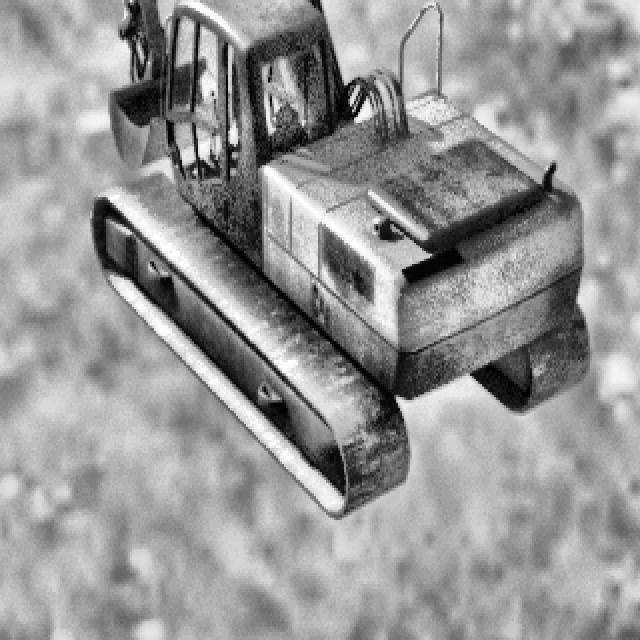excavator: (50, 0, 588, 520)
